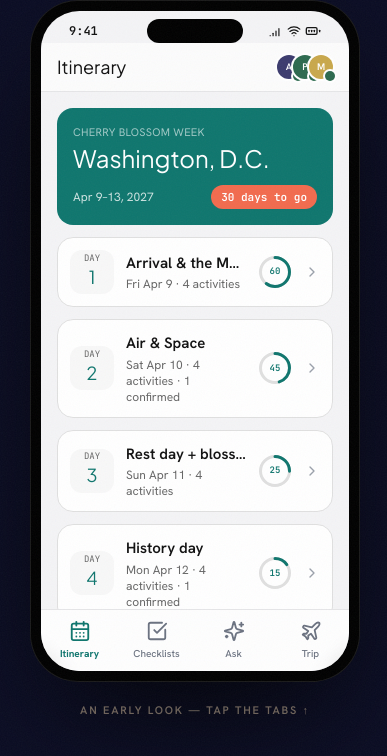
Test case: AppMockup › drills into a day and back out again
Click the text "Air & Space".
click(166, 343)  # box [126,333,205,353]
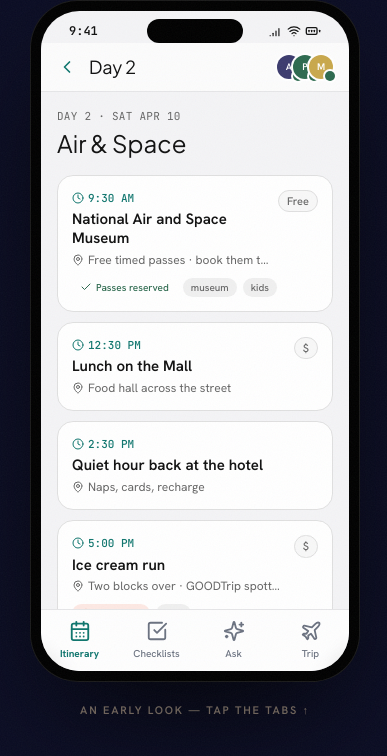
Expected: the text "National Air and Space Museum" is shown, [72,209,227,248]
Expected: the text "Lunch on the Mall" is shown, [72,356,192,376]
Expected: the text "Quiet hour back at the hotel" is shown, [72,456,263,475]
Click the button named "back to itinerary".
click(67, 67)  # box [53,53,81,81]
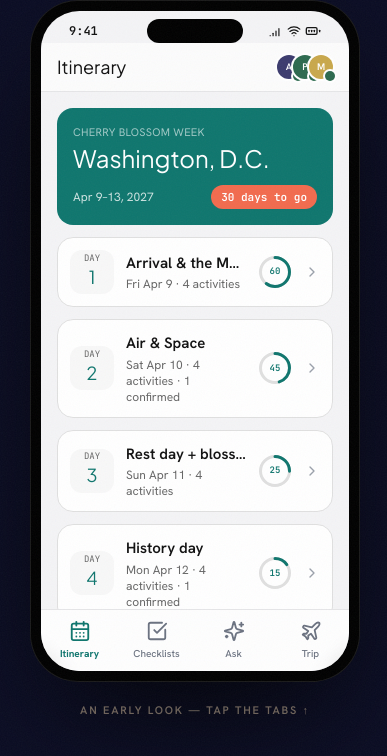
Expected: the text "Arrival & the Mall at dusk" is shown, [126,252,246,274]
